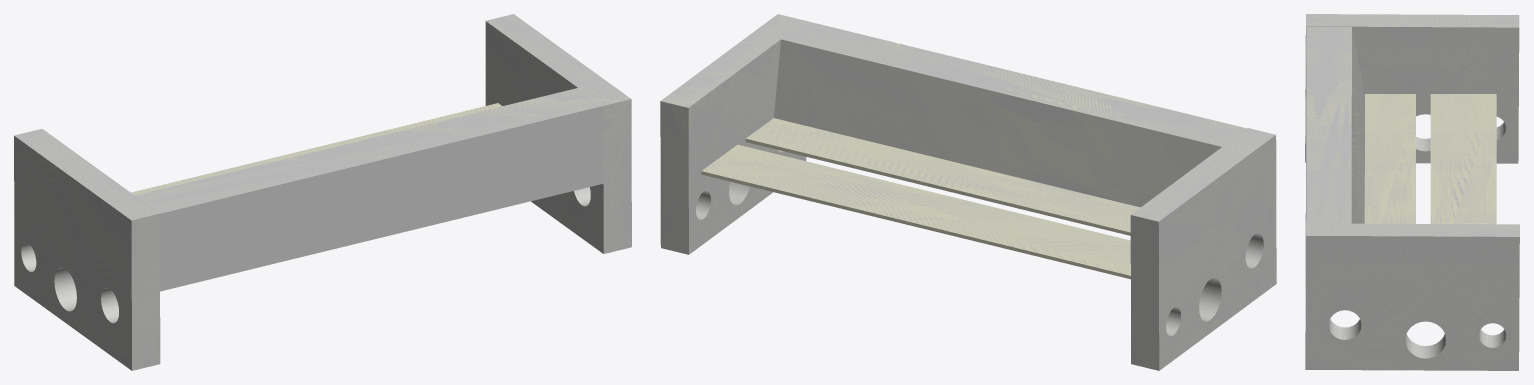
3 views of the same model, side by side, from view 1: azimuth 30°, elevation 25°; view 2: azimuth 150°, elevation 25°; view 3: azimuth 270°, elevation 25° (orthographic). The views are drawn at different scales.
Parts seen in each view (by area): view 1: mesh1_mesh1-geometry, mesh2_mesh2-geometry; view 2: mesh1_mesh1-geometry, mesh2_mesh2-geometry; view 3: mesh1_mesh1-geometry, mesh2_mesh2-geometry.
Part boxes in pixels (x1,y1,x2,y2): mesh1_mesh1-geometry: (135, 14, 631, 291); mesh2_mesh2-geometry: (14, 103, 502, 370); mesh1_mesh1-geometry: (660, 14, 1246, 254); mesh2_mesh2-geometry: (701, 118, 1276, 370); mesh1_mesh1-geometry: (1305, 27, 1519, 370); mesh2_mesh2-geometry: (1305, 14, 1519, 224).
Size of the model in its own units: 0.8938 by 0.2584 by 0.3666.
